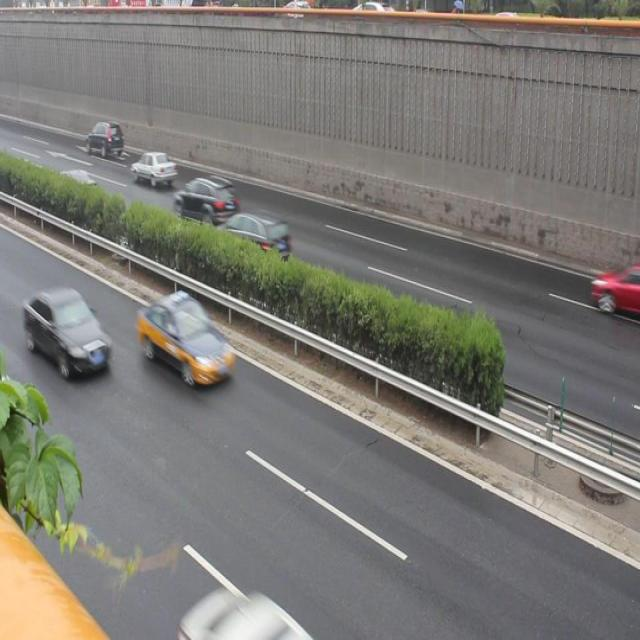car: (165, 585, 334, 640), (139, 296, 235, 389), (22, 284, 105, 381), (220, 208, 287, 266), (588, 255, 640, 325), (176, 178, 240, 224), (51, 166, 102, 210), (129, 144, 176, 188), (84, 115, 125, 156)
